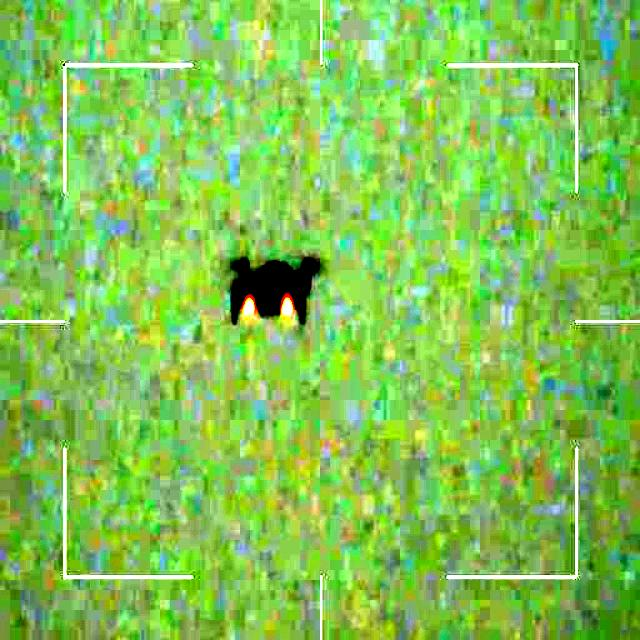bird: (226, 256, 322, 325)
